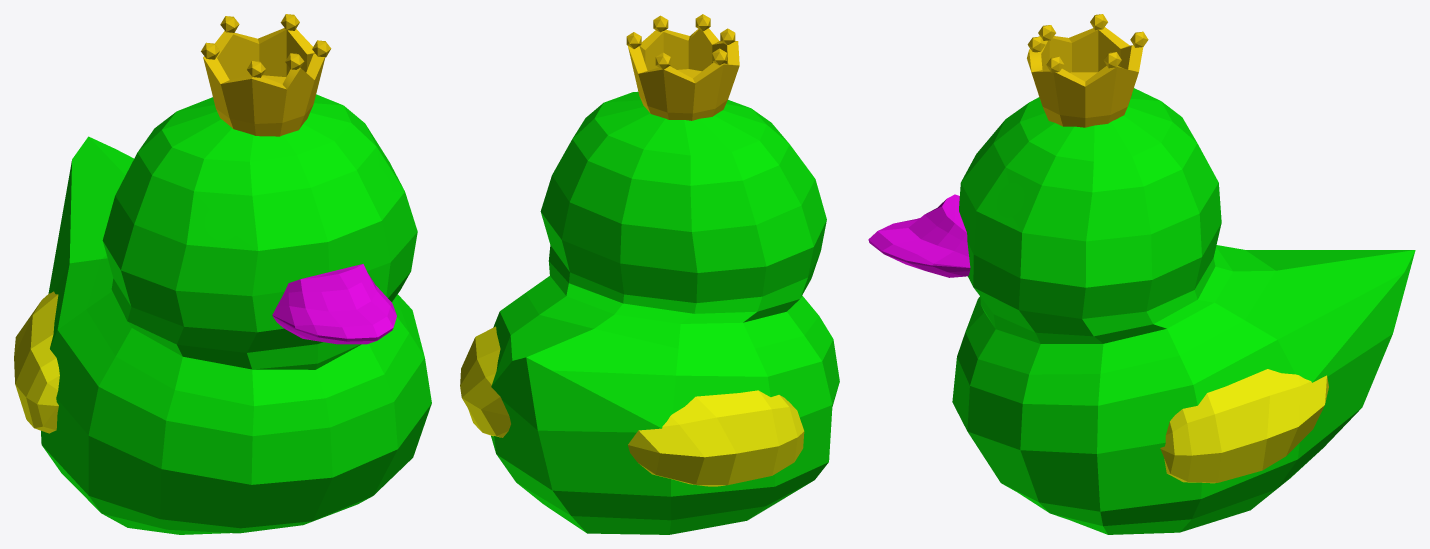
File: rubber_duck_04.fbx
The picture shows the model from 3 angles, left to right: view 1: azimuth 30°, elevation 25°; view 2: azimuth 150°, elevation 25°; view 3: azimuth 270°, elevation 25°; orthographic projection. The views are drawn at different scales.
Parts seen in each view (by area): view 1: rubber_duck_04; view 2: rubber_duck_04; view 3: rubber_duck_04.
Boxes of the visible parts, <box> form: rubber_duck_04: <box>14,14,431,534</box>; rubber_duck_04: <box>460,14,839,534</box>; rubber_duck_04: <box>868,14,1415,534</box>.
Bounding box in the file's own units: 5.8 × 7.26 × 8.09.
